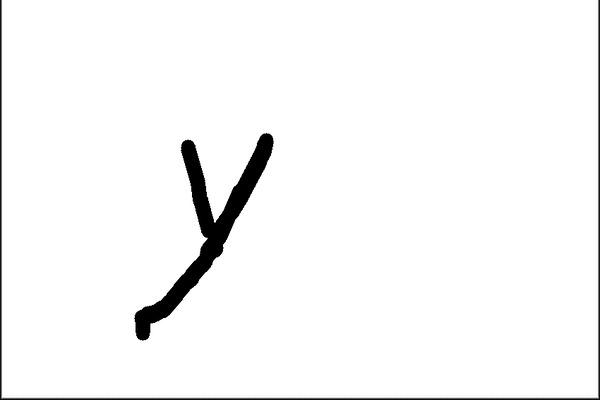Y: (120, 109, 301, 357)
